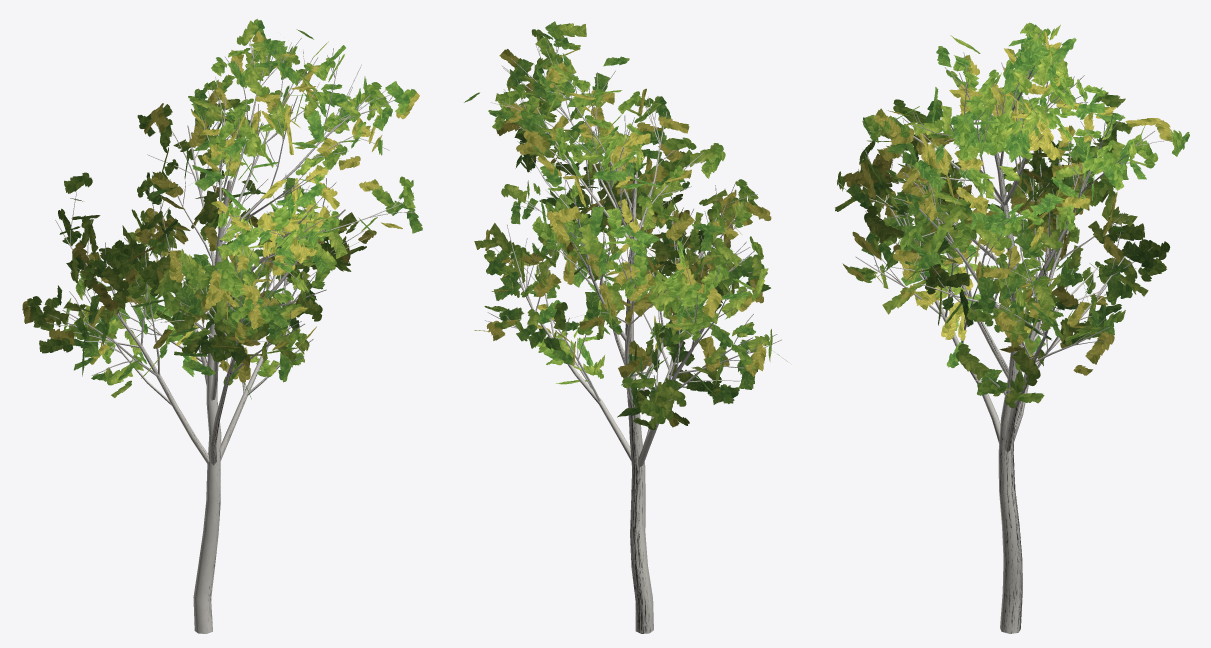
File: hero_birch_a.obj
The picture shows the model from 3 angles, left to right: view 1: azimuth 30°, elevation 25°; view 2: azimuth 150°, elevation 25°; view 3: azimuth 270°, elevation 25°; orthographic projection. The views are drawn at different scales.
Parts seen in each view (by area): view 1: hero_birch_a; view 2: hero_birch_a; view 3: hero_birch_a.
Part boxes in pixels (x1,y1,x2,y2): hero_birch_a: (22,19,422,633); hero_birch_a: (464,21,787,633); hero_birch_a: (835,22,1189,633).
Bounding box in the file's own units: 8.36 × 13.39 × 6.87.
Materials: 2 (2 with a texture image).
